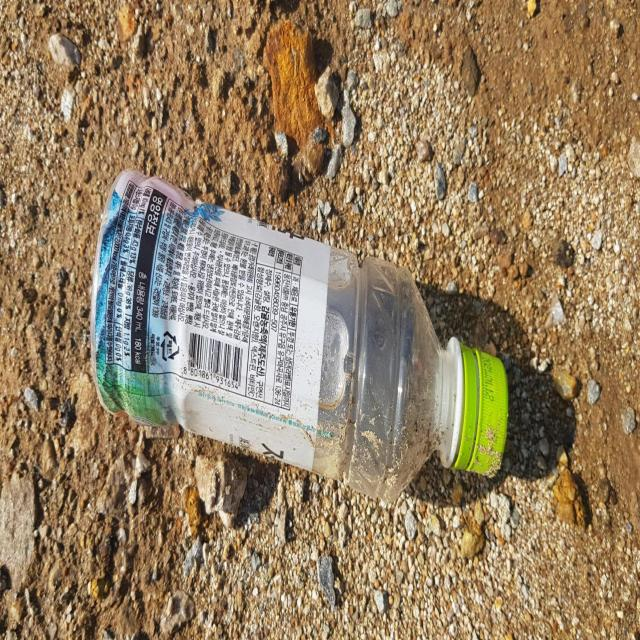plastic: (90, 169, 509, 503)
